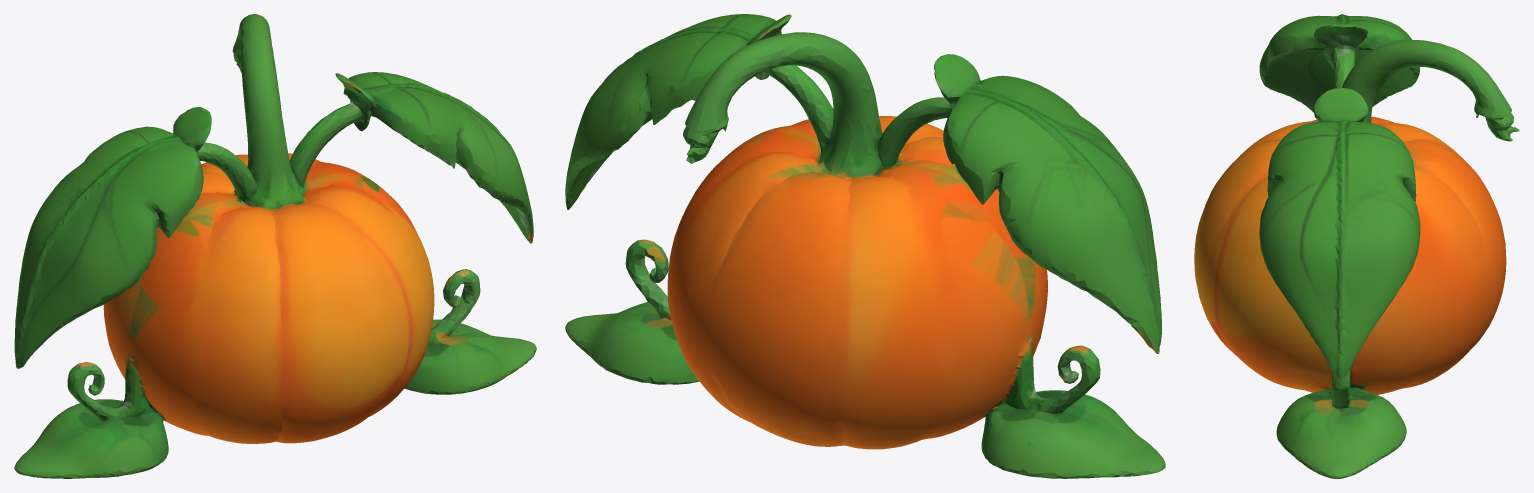
File: crop_pumpkin.glb
3 renders of one model, left to right at view 1: azimuth 30°, elevation 25°; view 2: azimuth 150°, elevation 25°; view 3: azimuth 270°, elevation 25°, orthographic. The views are drawn at different scales.
Parts seen in each view (by area): view 1: crop_pumpkin; view 2: crop_pumpkin; view 3: crop_pumpkin.
Boxes of the visible parts, x1,y1,x2,y2 form: crop_pumpkin: [14, 14, 536, 478]; crop_pumpkin: [565, 14, 1165, 478]; crop_pumpkin: [1194, 14, 1519, 478].
Bounding box in the file's own units: 1 × 0.6361 × 0.5676.
1 material, 1 textured.
